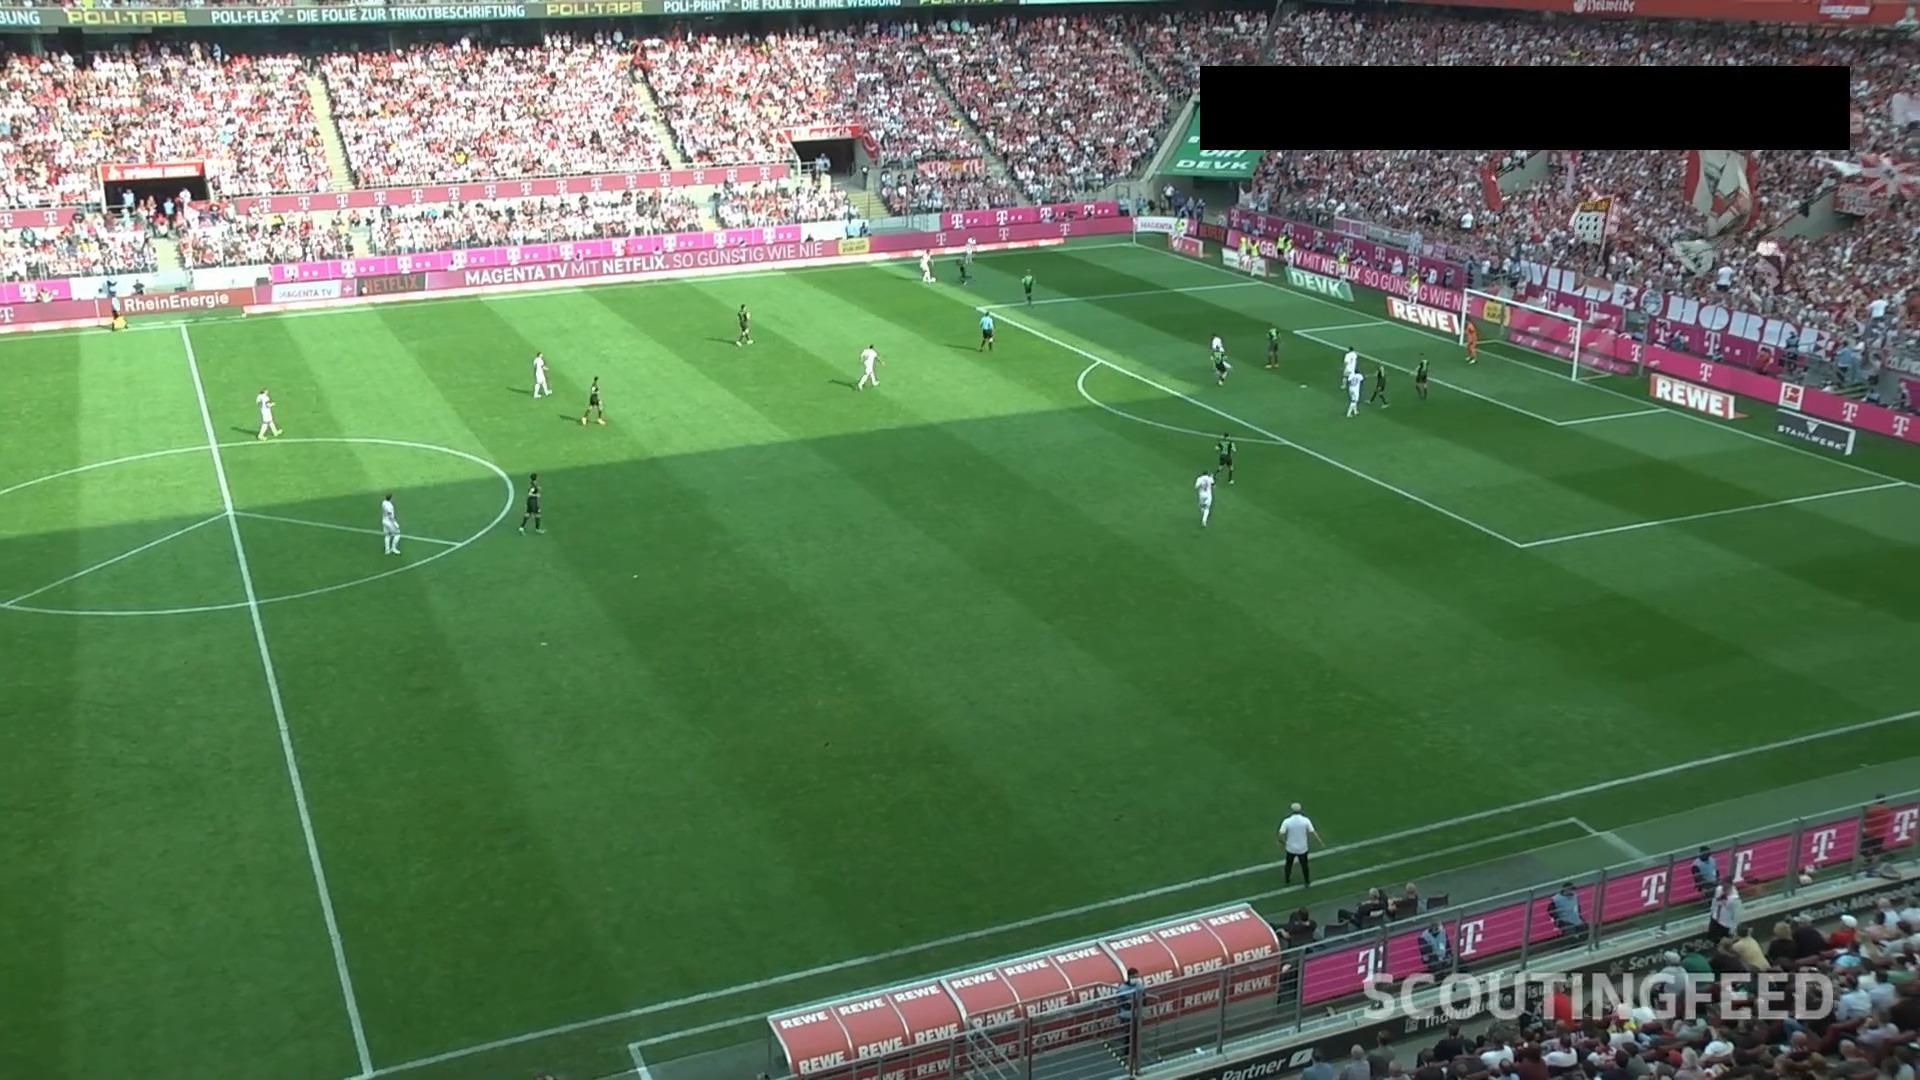ball: (930, 276, 938, 284)
